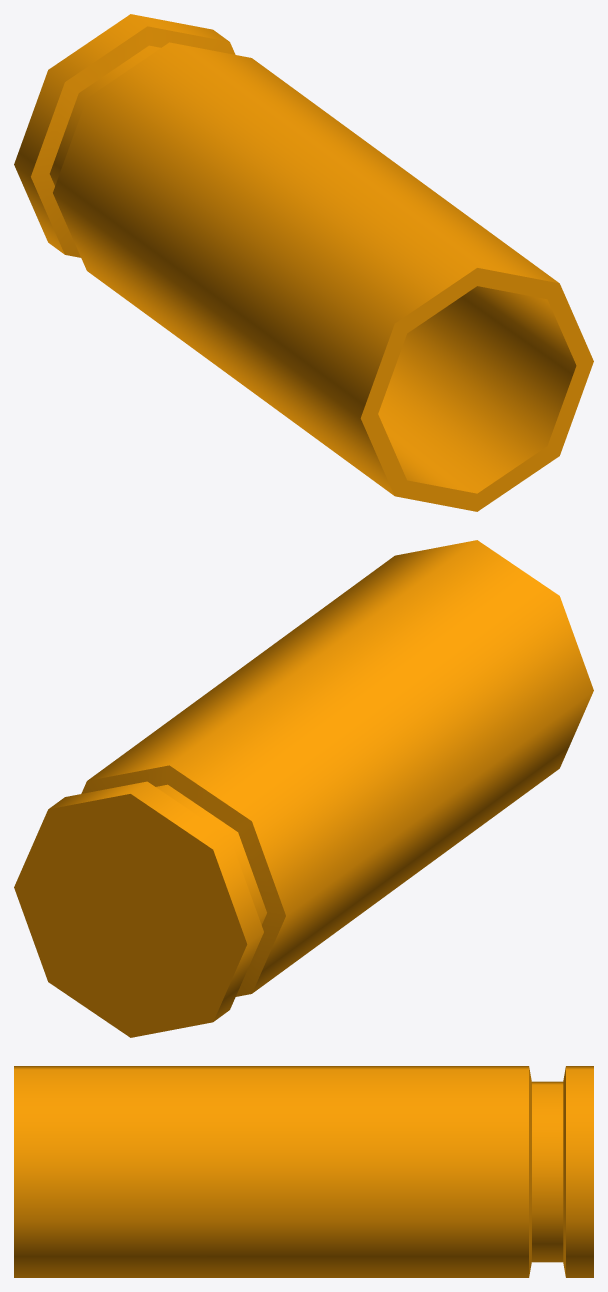
Rendered from TommyShell.obj.
3 renders of one model, top to bottom at view 1: azimuth 30°, elevation 25°; view 2: azimuth 150°, elevation 25°; view 3: azimuth 270°, elevation 25°, orthographic. The views are drawn at different scales.
Parts seen in each view (by area): view 1: Cube.001; view 2: Cube.001; view 3: Cube.001.
Boxes of the visible parts, <box> form: Cube.001: <box>14,14,593,511</box>; Cube.001: <box>14,540,593,1037</box>; Cube.001: <box>14,1066,593,1277</box>.
Bounding box in the file's own units: 0.0643 × 0.0643 × 0.1654.
